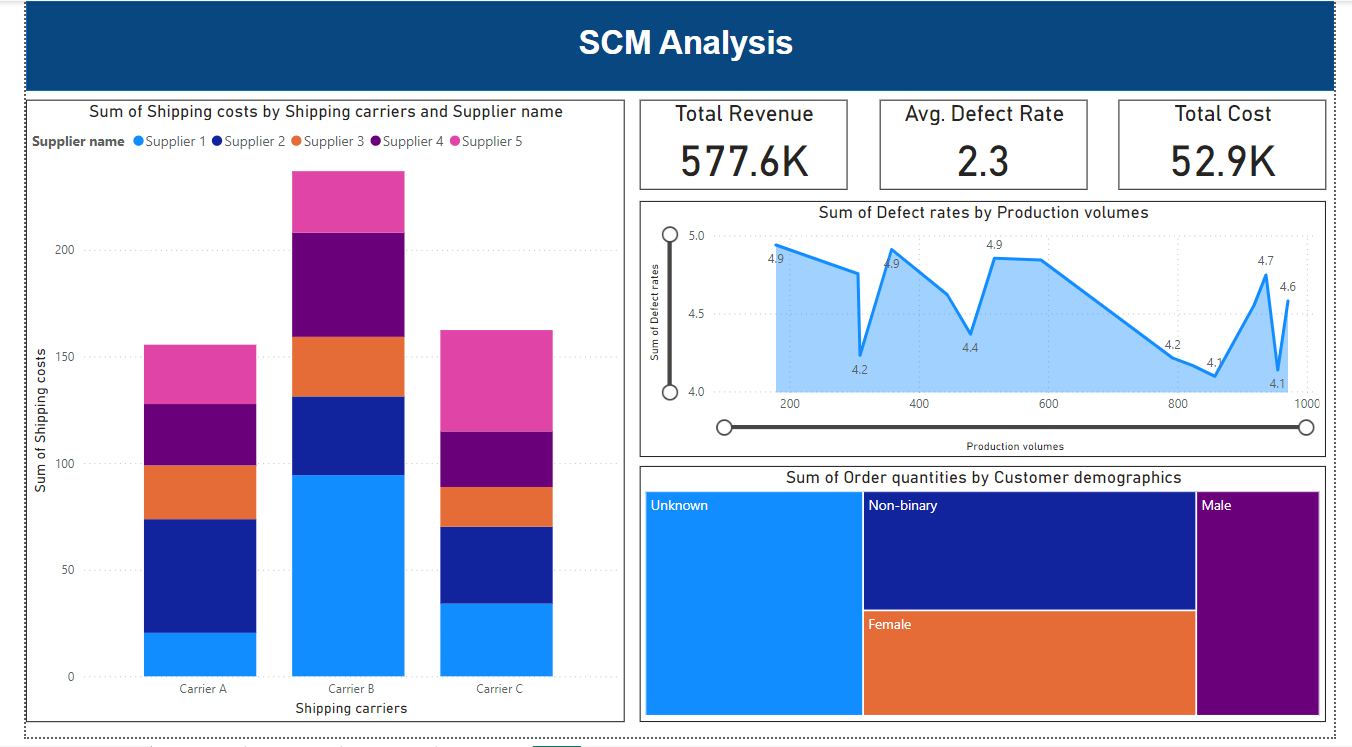

Layout of this report page (visuals, bound fields, positions):
{"tool":"powerbi","page":{"name":"Page 1","canvas":[1280,720],"ordinal":0},"visuals":[{"type":"shape","box":[0,0,1280.3,88],"z":0},{"type":"textbox","box":[319.2,18.3,653,50.1],"z":1000},{"type":"treemap","fields":{"Group":["scm_analysis.Customer demographics"],"Values":["Sum(scm_analysis.Order quantities)"]},"box":[600.4,454.9,671.3,250.7],"z":2000},{"type":"lineStackedColumnComboChart","fields":{"Category":["scm_analysis.Shipping carriers"],"Y":["Sum(scm_analysis.Shipping costs)"],"Series":["scm_analysis.Supplier name"]},"box":[0,96.6,585.7,609],"z":3000},{"type":"card","title":"Total Revenue","fields":{"Values":["Sum(scm_analysis.Revenue generated)"]},"box":[600.4,96.6,203,88],"z":4000},{"type":"card","title":"Avg. Defect Rate","fields":{"Values":["Avg(scm_analysis.Defect rates)"]},"box":[835.2,96.6,203,88],"z":5000},{"type":"card","title":"Total Cost","fields":{"Values":["Sum(scm_analysis.Costs)"]},"box":[1068.8,96.6,203,88],"z":6000},{"type":"areaChart","fields":{"Y":["Sum(scm_analysis.Defect rates)"],"Category":["scm_analysis.Production volumes"]},"box":[600.4,195.7,671.3,250.7],"z":7000}]}

Visuals, with their boxes in screenshot pixels (x1, y1, x2, y2), scaled from the page's 1280x720 canvas onto the 1352x747 screenshot:
shape: (0,0,1351,91)
textbox: (337,19,1027,71)
treemap - scm_analysis.Customer demographics x Sum(scm_analysis.Order quantities): (634,472,1343,732)
lineStackedColumnComboChart - scm_analysis.Shipping carriers x Sum(scm_analysis.Shipping costs): (0,100,619,732)
"Total Revenue" card: (634,100,849,192)
"Avg. Defect Rate" card: (882,100,1097,192)
"Total Cost" card: (1129,100,1343,192)
areaChart - Sum(scm_analysis.Defect rates) x scm_analysis.Production volumes: (634,203,1343,463)
